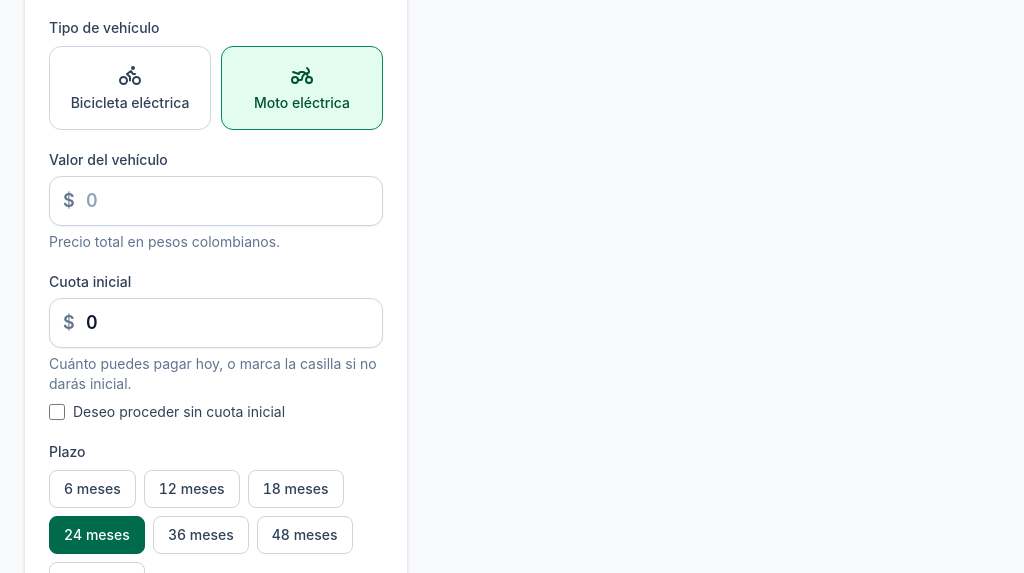
CreditSimulatorPage › renderiza una fila por cuota del plan de pagos
The image size is (1024, 573).
(page scrolled)
Type "8000000" into the field labelled "Valor del vehículo".
click(216, 201); type("8000000")  # box [49,176,383,226]
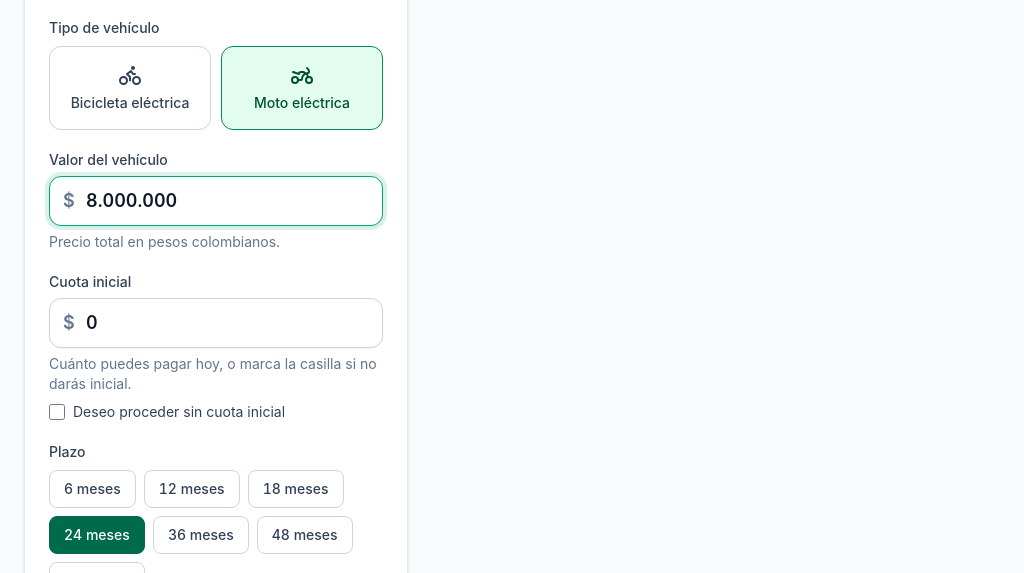
Type "2000000" into the field labelled "Cuota inicial".
click(216, 323); type("2000000")  # box [49,298,383,348]
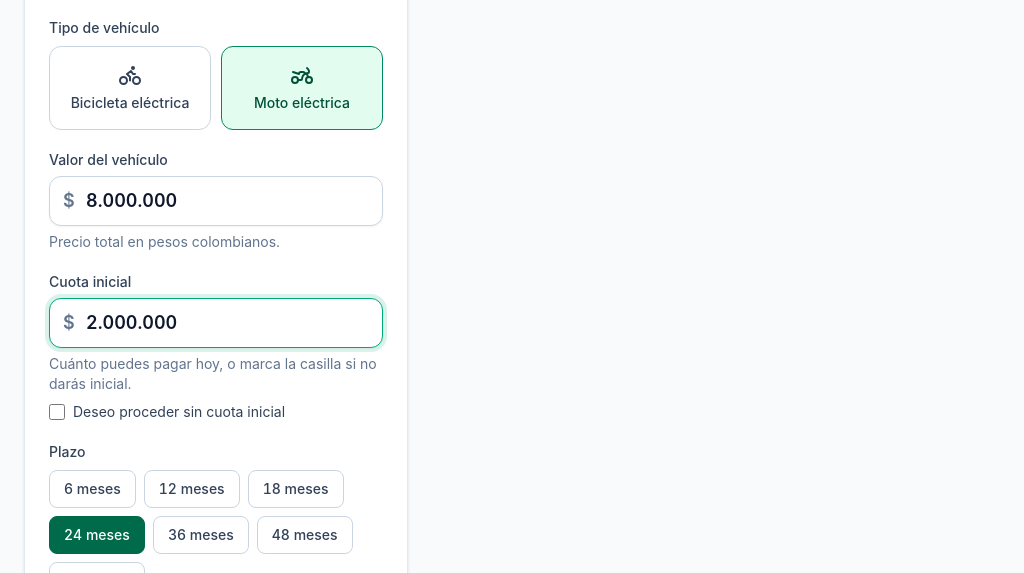
Click the radio button labelled "6 meses".
click(92, 489)  # box [49,470,136,508]
(page scrolled)
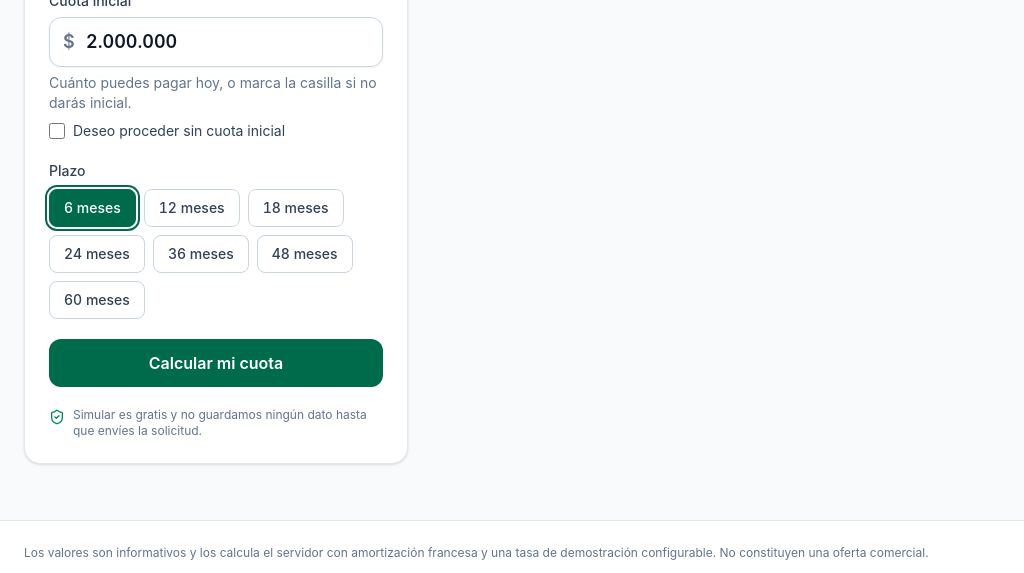
Click the button "Calcular mi cuota".
click(216, 363)  # box [49,339,383,387]
(page scrolled)
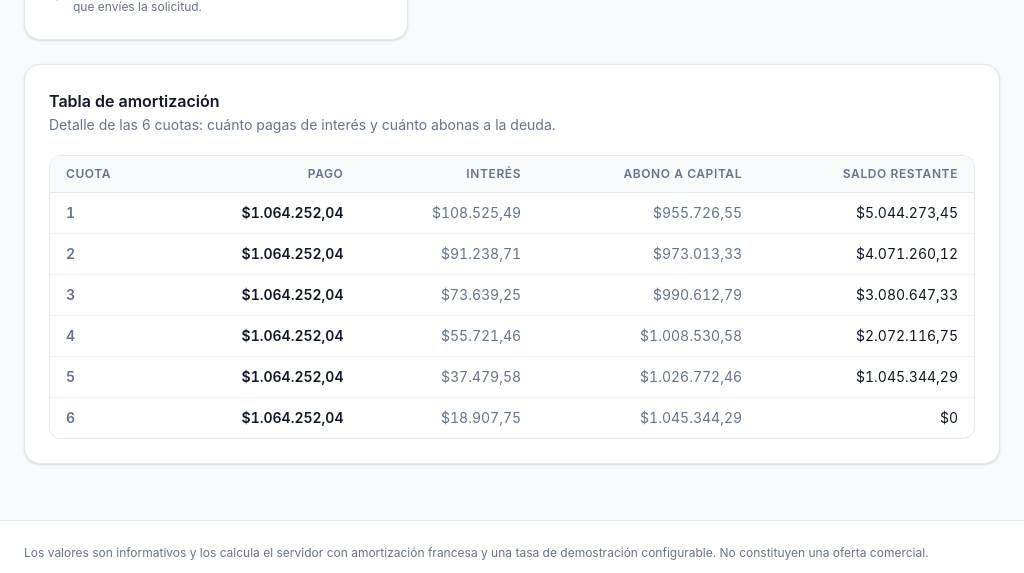
Now the number of rows is 7
Now the text "$108.525,49" is shown, box [360,193,537,234]
Now the text "$955.726,55" is shown, box [537,193,758,234]
